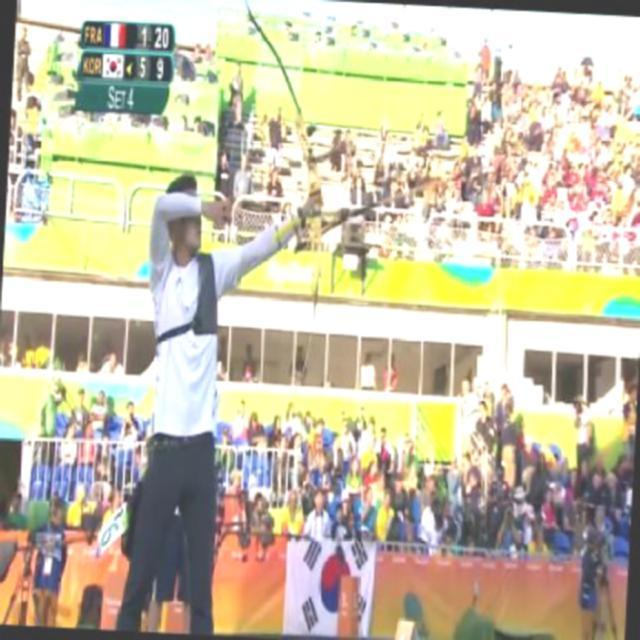non-fight: (123, 170, 246, 635)
